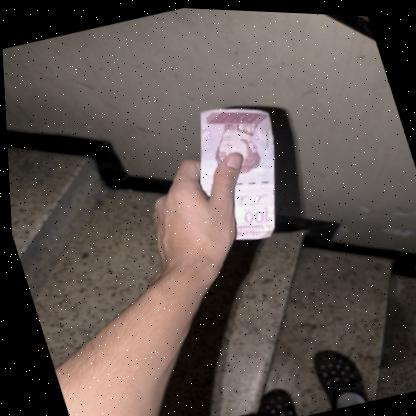one_hundred-front-vef: (174, 90, 304, 249)
